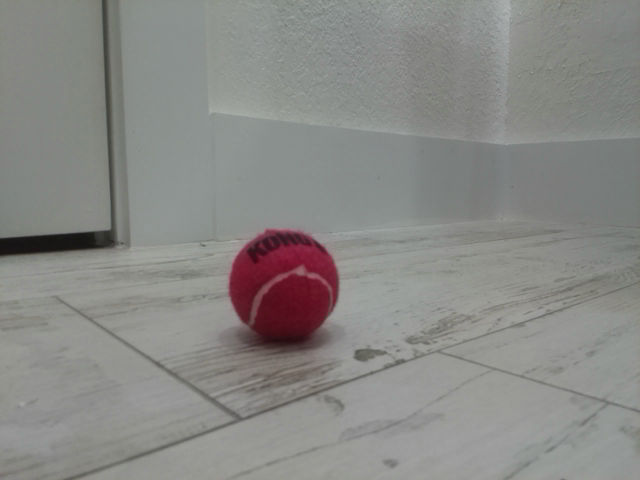red-ball: (228, 227, 341, 344)
